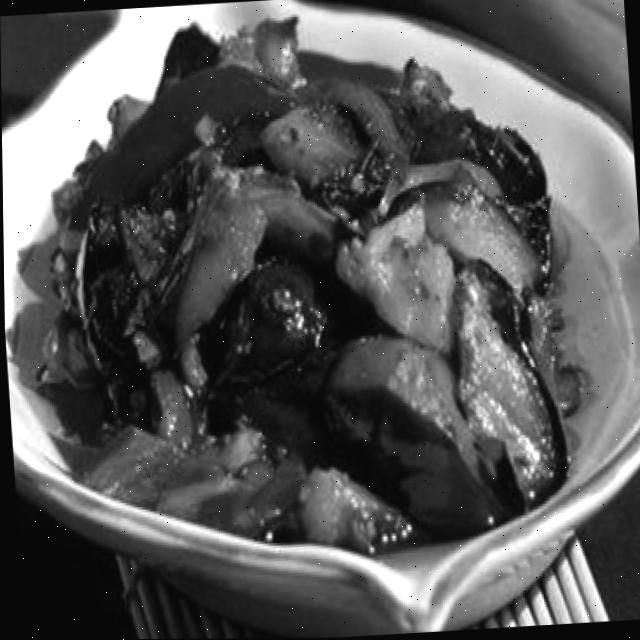鸡蛋料理: (12, 2, 630, 626)
